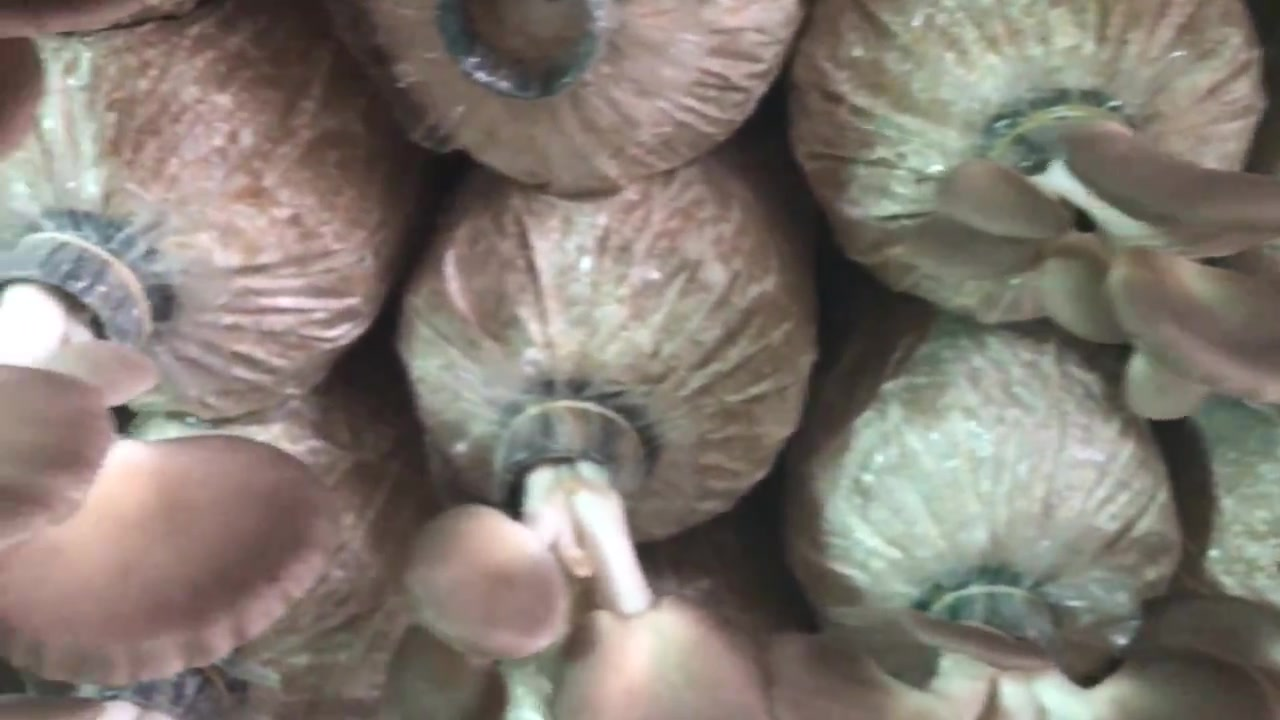nam: (1, 202, 346, 691), (896, 99, 1280, 416), (405, 396, 769, 720), (768, 581, 1278, 720)
